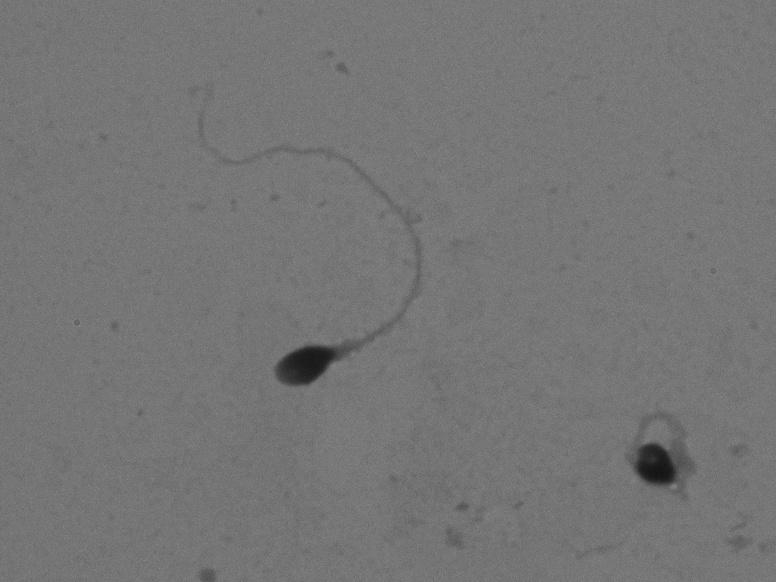Abnormal: (148, 77, 484, 417), (574, 386, 727, 519)
